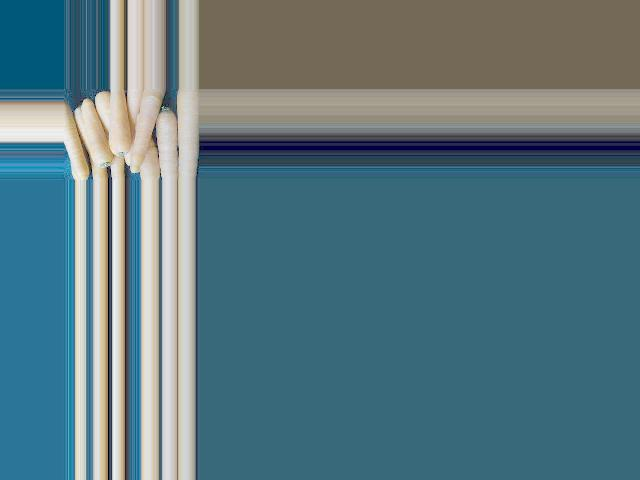carrot: (177, 91, 197, 180)
